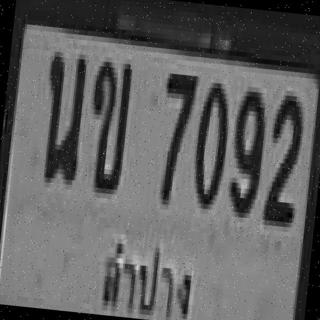A02: (83, 56, 131, 190)
A25: (37, 46, 87, 180)
N00: (189, 77, 231, 205)
N02: (260, 89, 303, 222)
N07: (153, 68, 196, 201)
N09: (225, 85, 267, 214)
P20: (92, 222, 202, 320)
